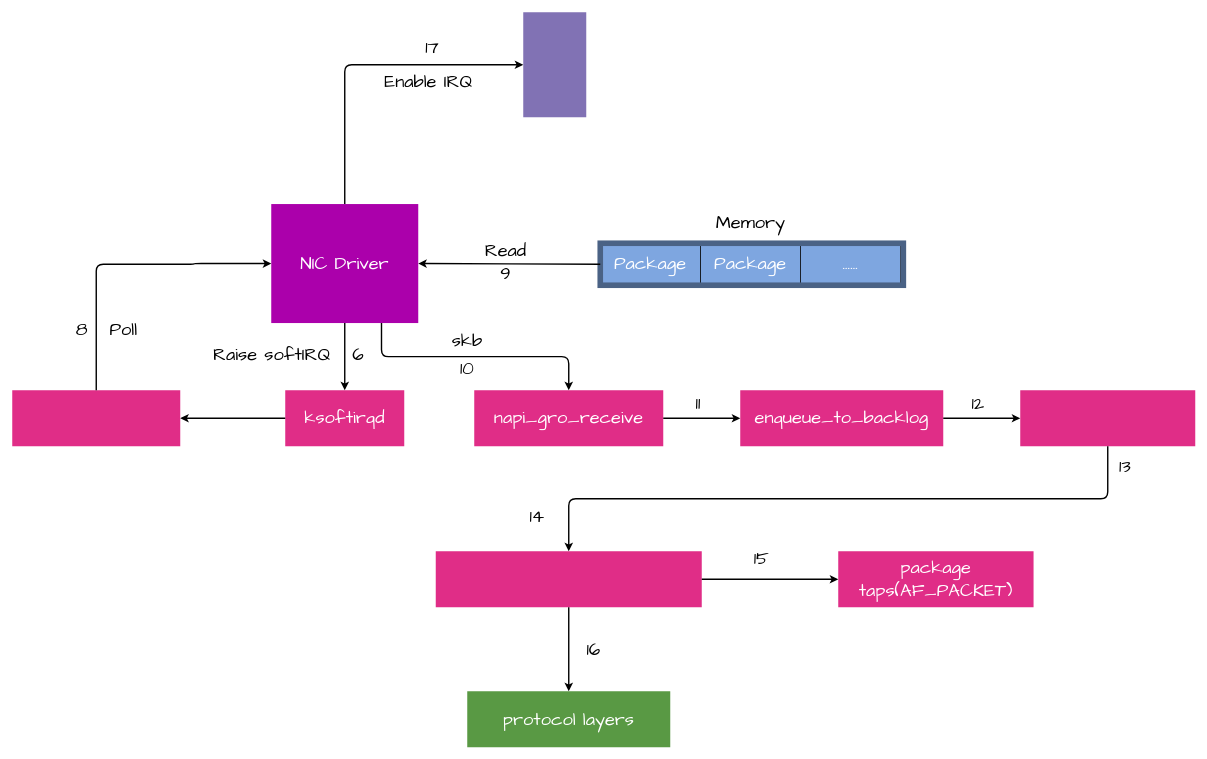
Some shapes in this 1207 by 759 pixel diagram are drawn without their labels. Here are the shapes that lost their labels. From the top down, the centre of each, then its label:
At (554,64): "NIC".
At (96,418): "net_rx_action".
At (1107,418): "CPU input_pkt_queue".
At (568,579): "__netif_receive_skb_core".
